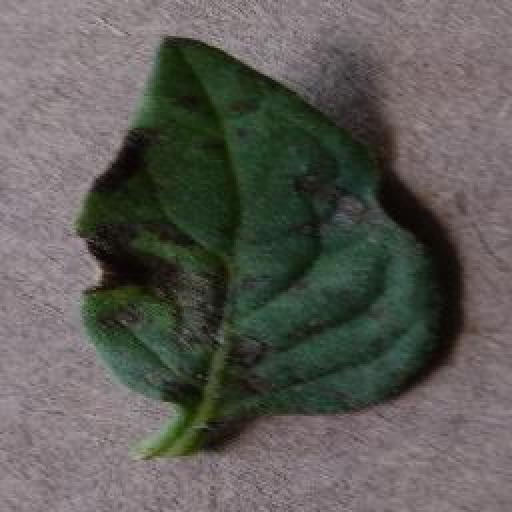Early Blight: (72, 31, 458, 424)
